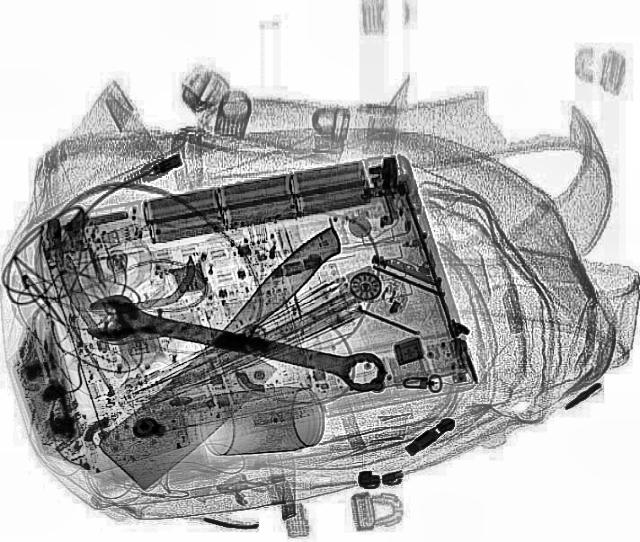Knife: (79, 223, 394, 493)
Wrench: (76, 288, 392, 398)
